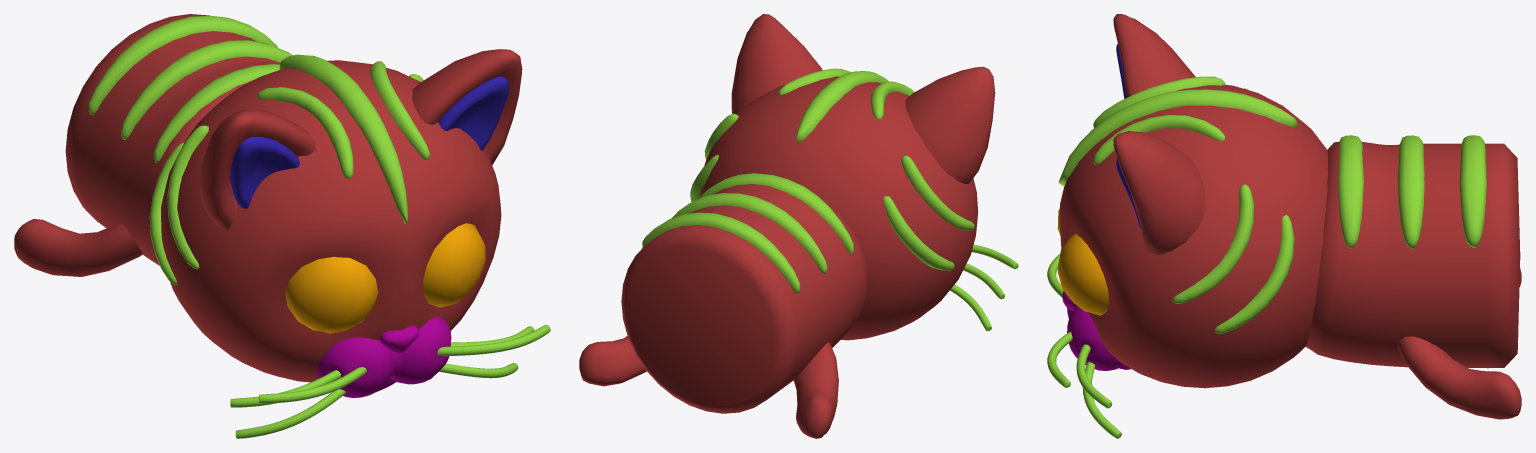
The model's file is CHAR_longCat_head.fbx.
3 views of the same model, side by side, from view 1: azimuth 30°, elevation 25°; view 2: azimuth 150°, elevation 25°; view 3: azimuth 270°, elevation 25° (orthographic). The views are drawn at different scales.
Visible parts, largest first — view 1: head, stripes, chest, ear_outer (×2), eyes, mouth, ear_inner (×2), paws, whiskers; view 2: chest, head, stripes, ear_outer (×2), paws, whiskers; view 3: head, chest, stripes, ear_outer (×2), paws, eyes, whiskers, mouth.
Boxes of the visible parts, box(x1,y1,x2,y2) form: head: box(161, 60, 501, 382); stripes: box(88, 15, 429, 285); chest: box(65, 14, 280, 265); ear_outer (×2): box(200, 49, 522, 229); eyes: box(285, 223, 485, 333); mouth: box(317, 317, 451, 397); ear_inner (×2): box(230, 76, 508, 208); paws: box(14, 219, 142, 276); whiskers: box(230, 324, 550, 438); chest: box(621, 184, 869, 413); head: box(700, 76, 978, 340); stripes: box(642, 68, 974, 293); ear_outer (×2): box(731, 14, 995, 183); paws: box(579, 336, 838, 438); whiskers: box(950, 244, 1018, 331); head: box(1060, 84, 1328, 388); chest: box(1305, 141, 1520, 368); stripes: box(1058, 76, 1486, 333); ear_outer (×2): box(1113, 14, 1204, 254); paws: box(1397, 268, 1521, 419); eyes: box(1057, 208, 1108, 315); whiskers: box(1047, 254, 1121, 438); mouth: box(1062, 291, 1130, 370).
Size of the model in its own units: 3.31 by 4.69 by 3.28.
